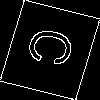C: (25, 24, 86, 72)
